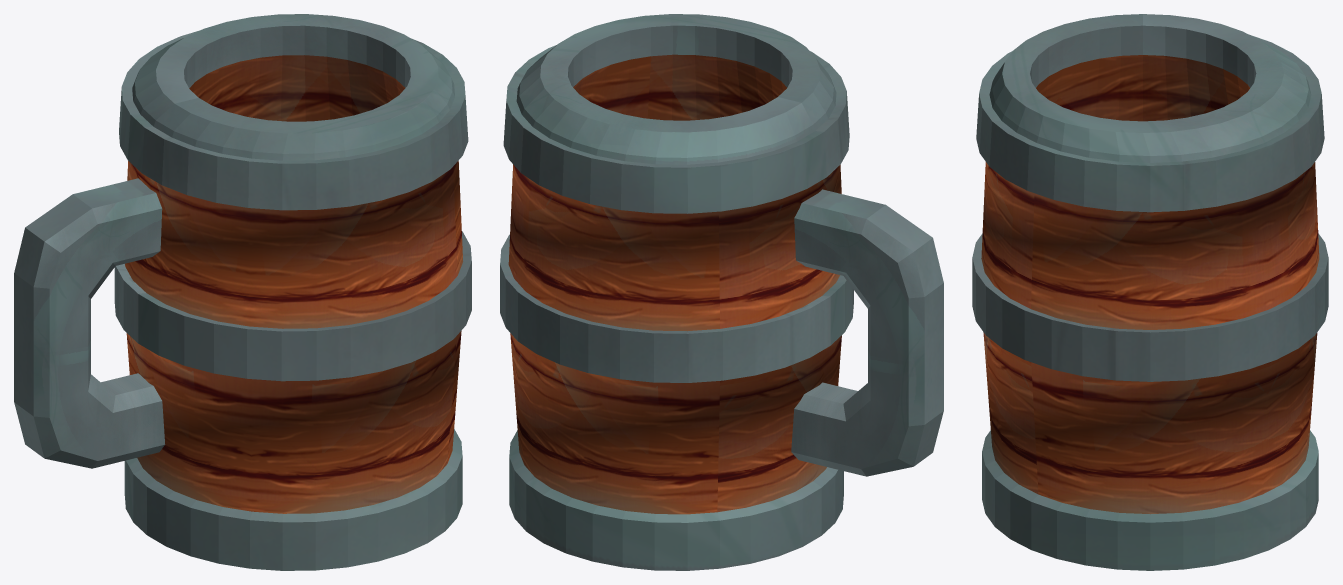
Rendered from Cup4.fbx.
The picture shows the model from 3 angles, left to right: view 1: azimuth 30°, elevation 25°; view 2: azimuth 150°, elevation 25°; view 3: azimuth 270°, elevation 25°; orthographic projection.
Parts seen in each view (by area): view 1: Bigcup; view 2: Bigcup; view 3: Bigcup.
Boxes of the visible parts, left/top/right/bottom form: Bigcup: left=14, top=14, right=471, bottom=570; Bigcup: left=500, top=14, right=943, bottom=570; Bigcup: left=972, top=14, right=1328, bottom=570.
Bounding box in the file's own units: 15.22 × 14.86 × 11.25.
